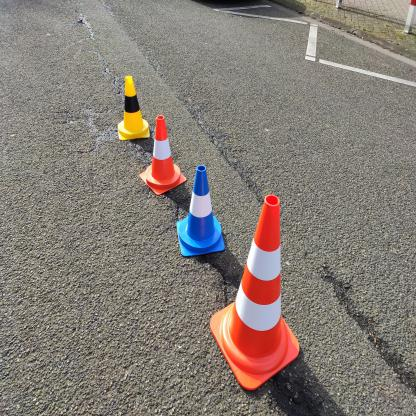Cones_big: (208, 196, 303, 392)
Cones_small_blue: (176, 163, 230, 259)
Cones_small_orange: (137, 114, 189, 198)
Cones_small_yellow: (109, 63, 152, 148)
